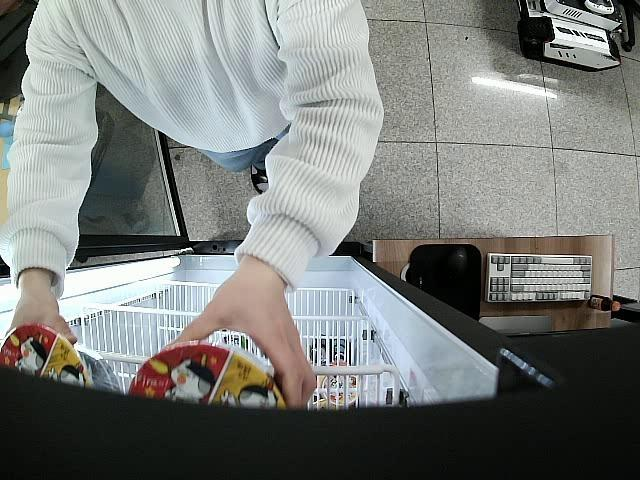07_buldak_L: (132, 341, 292, 415), (2, 324, 124, 400)
